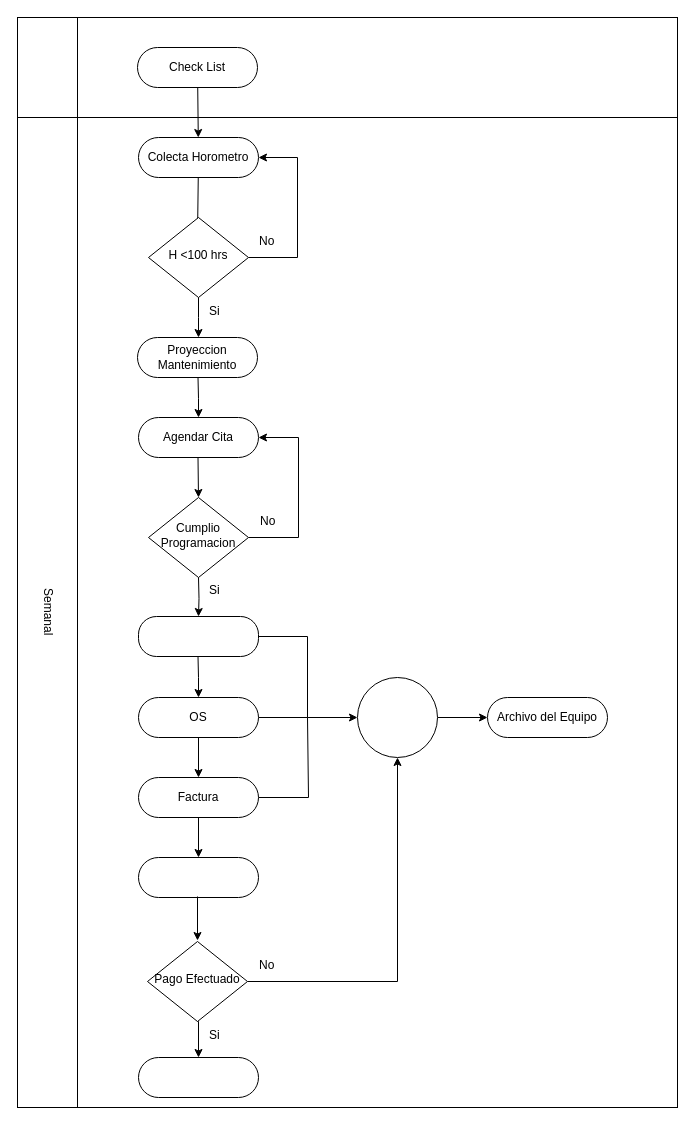
This 696x1125 diagram has some shape labels left out. Here are the shapes that lost their labels. From the top down, the centre of each, then its label:
At pixel 47 67: "Diario".
At pixel 198 636: "Prefactura".
At pixel 397 717: "Control de OS".
At pixel 198 877: "Remision Factura Contabilidad".
At pixel 198 1077: "Comprobante Pago".
